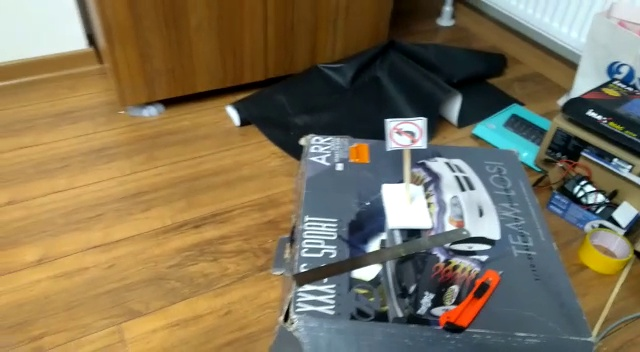sola_donulmez: (387, 119, 424, 149)
